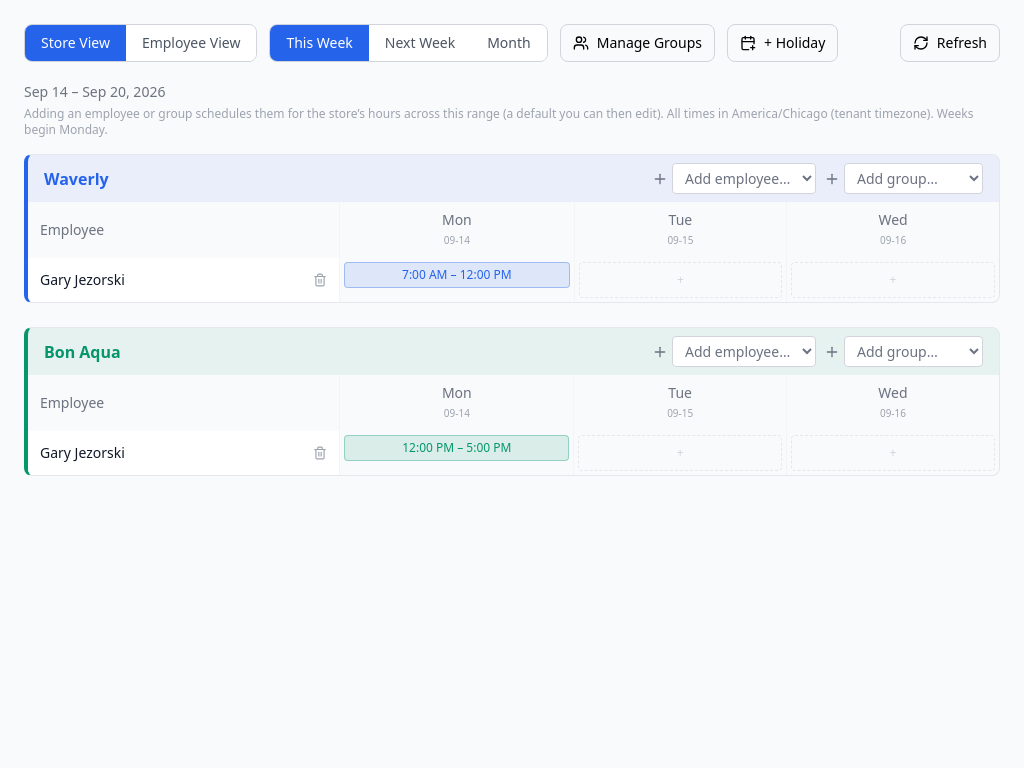
Test: Store View › a blank cell opens the editor with store-hours defaults
Click the button named "Add Gary Jezorski Waverly 2026-09-15" at (680, 280), box left=579, top=262, right=782, bottom=298
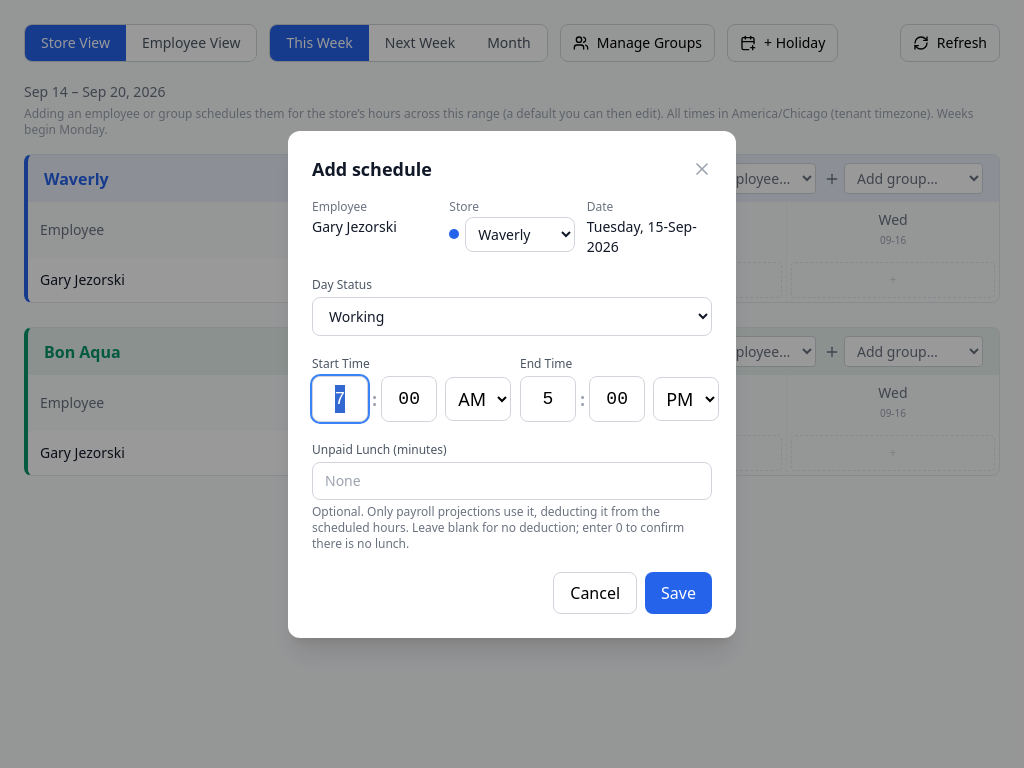
Expected: the heading "Add schedule" is shown, left=312, top=154, right=432, bottom=182
Expected: the field named "Start Hour" holds "7", left=312, top=376, right=368, bottom=422
Expected: the field named "End Hour" holds "5", left=520, top=376, right=576, bottom=422
